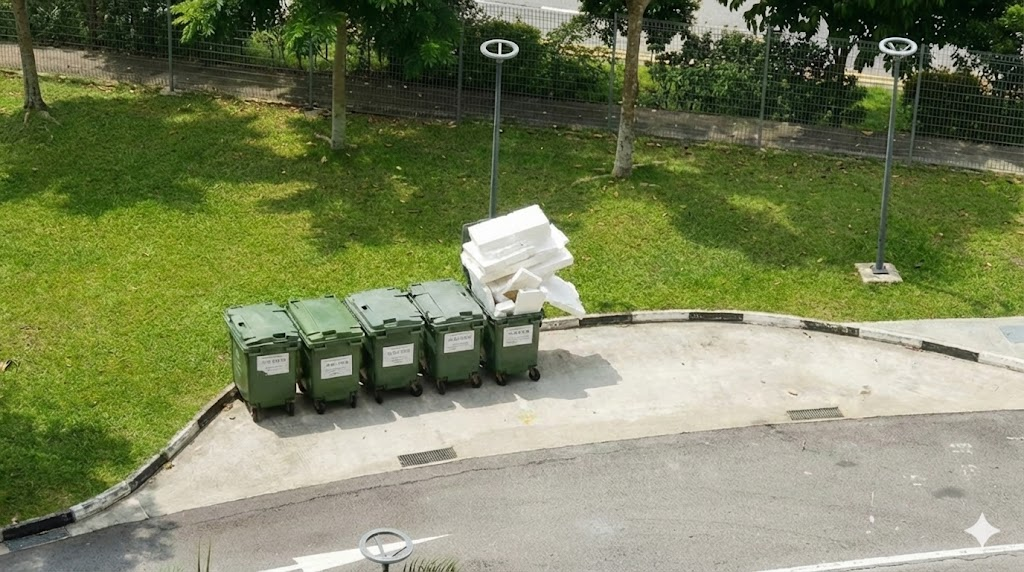bin_empty: (344, 287, 424, 403), (286, 295, 363, 413), (225, 302, 300, 420), (409, 280, 484, 393)
bin_full: (461, 205, 585, 384)
bulk_waste: (468, 205, 549, 249)
